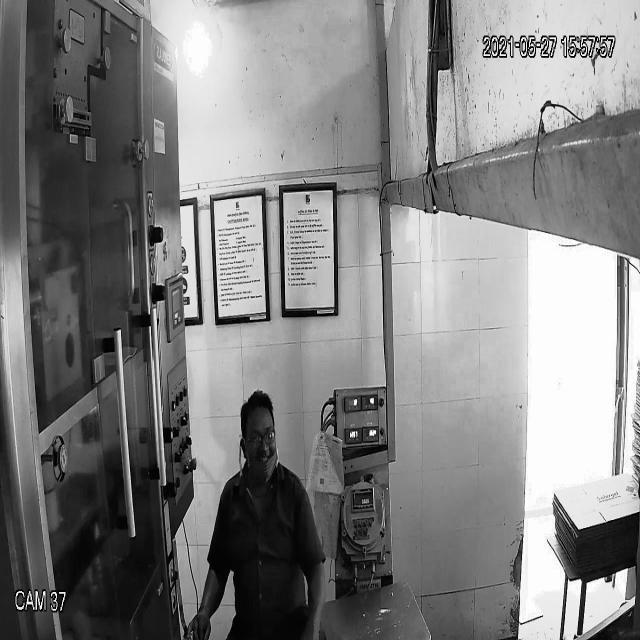glasses: (236, 419, 280, 456)
